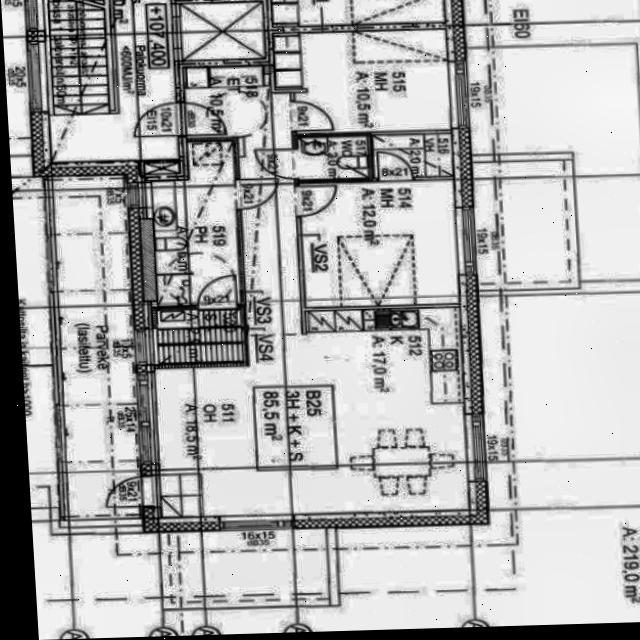room: (299, 179, 457, 308), (272, 30, 449, 134), (183, 62, 294, 184), (179, 1, 264, 60), (372, 134, 451, 177), (296, 137, 368, 179)
